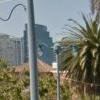Palm tree: (62, 9, 100, 99)
